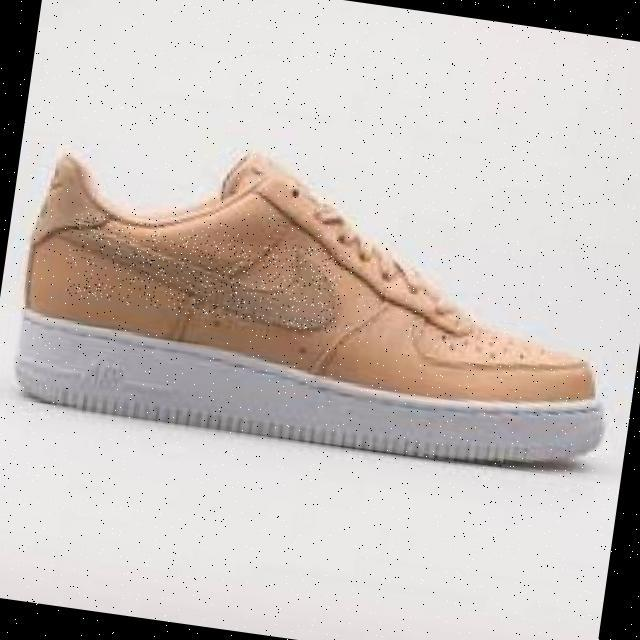Nike: (63, 213, 346, 335)
